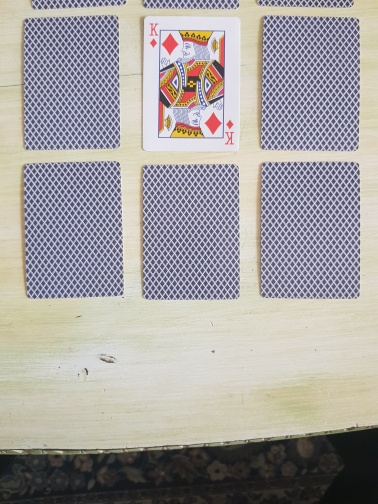king: (141, 15, 241, 153)
